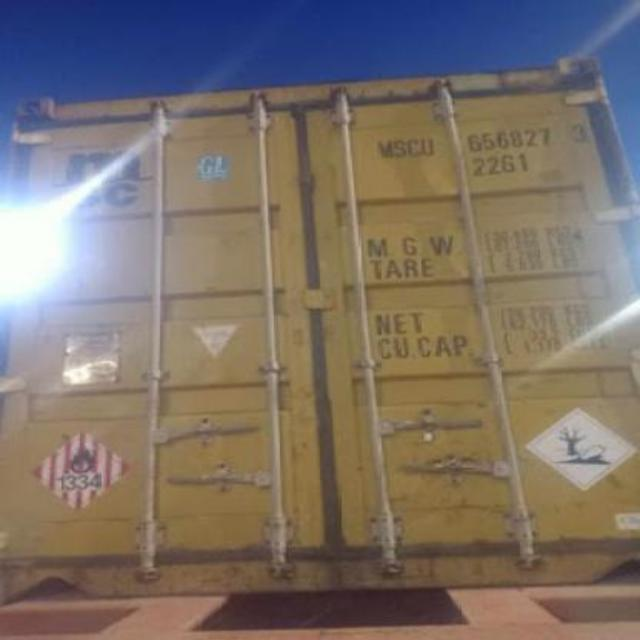2: (522, 125, 536, 152)
3: (570, 122, 590, 146)
5: (481, 122, 494, 150)
6: (464, 128, 480, 154), (494, 125, 508, 148)
7: (536, 122, 552, 154)
8: (511, 125, 524, 146)
C: (406, 135, 422, 161)
M: (374, 134, 394, 162)
S: (392, 134, 406, 164)
U: (418, 132, 436, 160)
